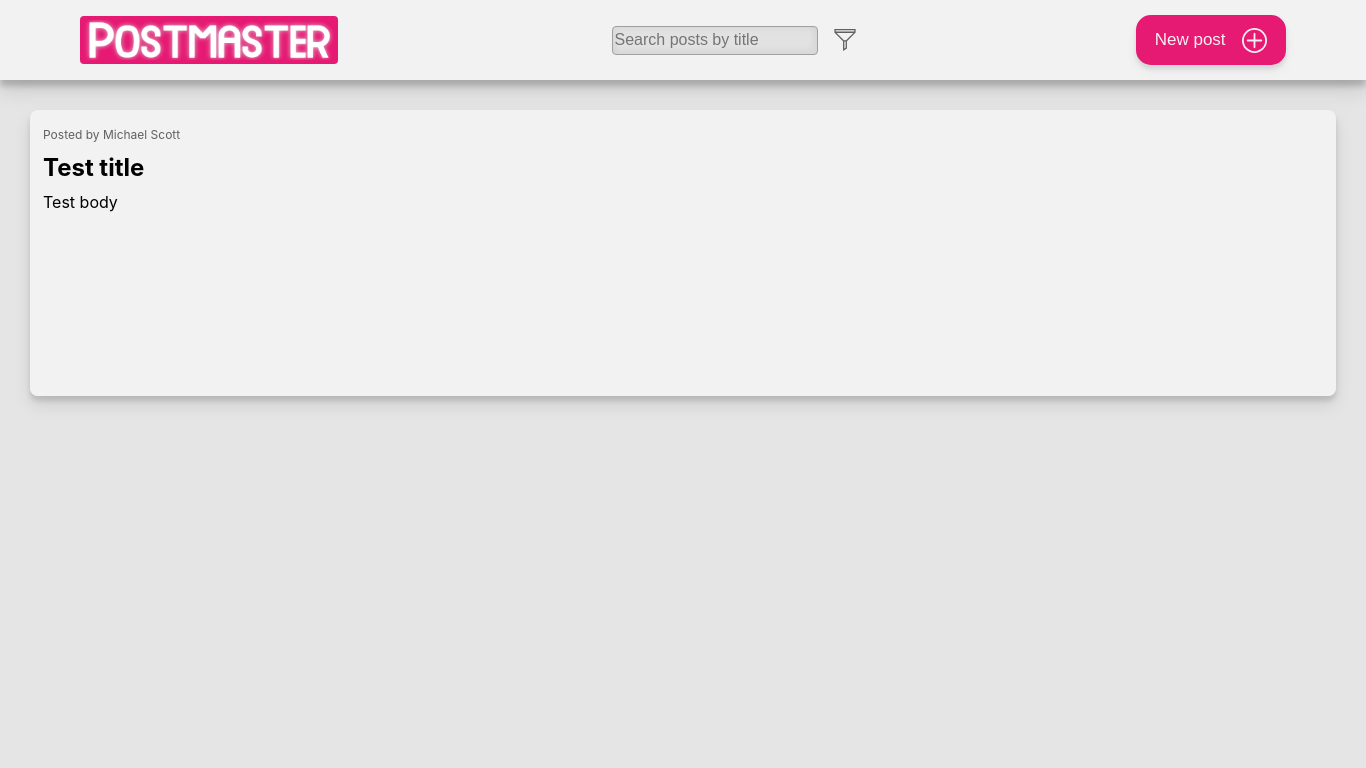
Post view page › Should allow user to add new cards
This screenshot has width=1366, height=768.
Expected: the heading "Test title" is shown, [43,153,144,182]
Click the button "New post": (1211, 40) [1136,15,1286,65]
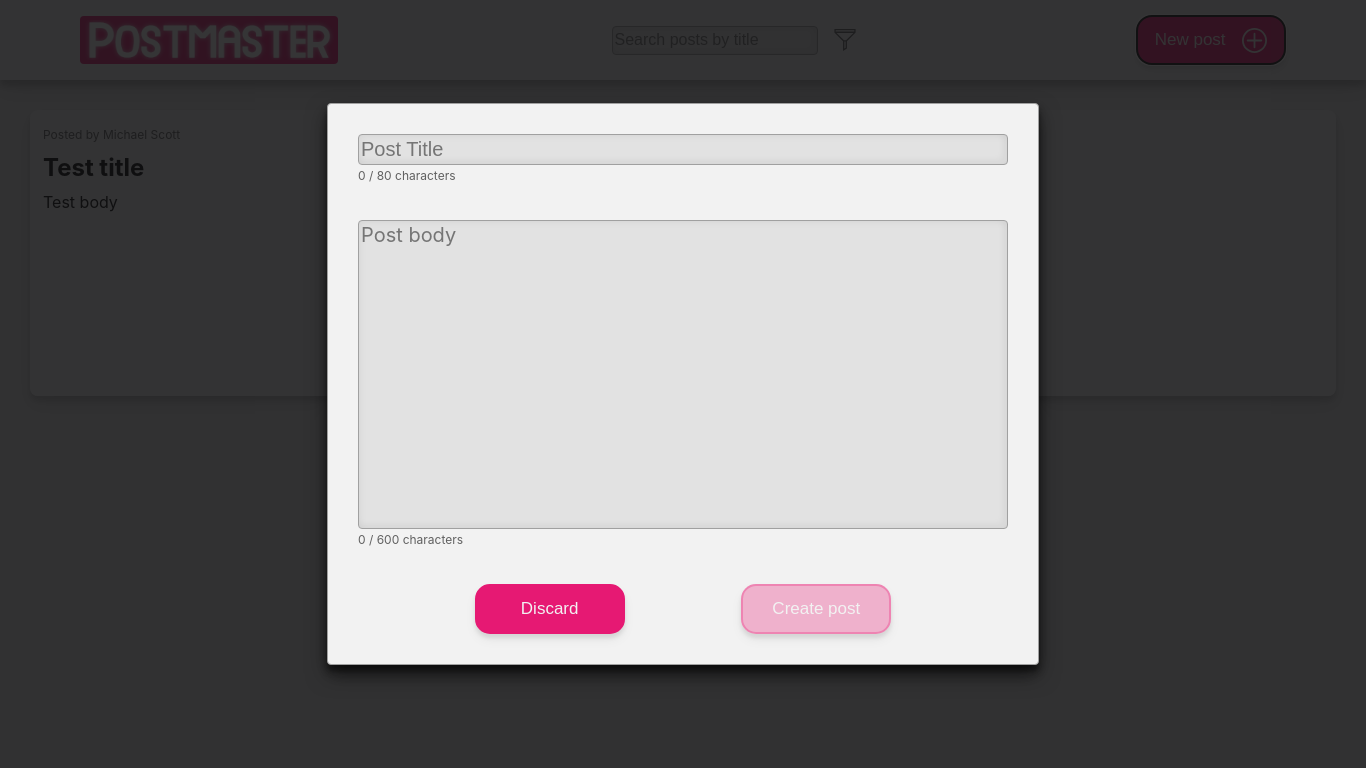
Expected: the field with placeholder "Post Title" is shown
Expected: the text box with placeholder "Post body" is shown, [358,220,1008,529]
In the field with placeholder "Post Title": (683, 150) [358,134,1008,165], type "Test title 2"
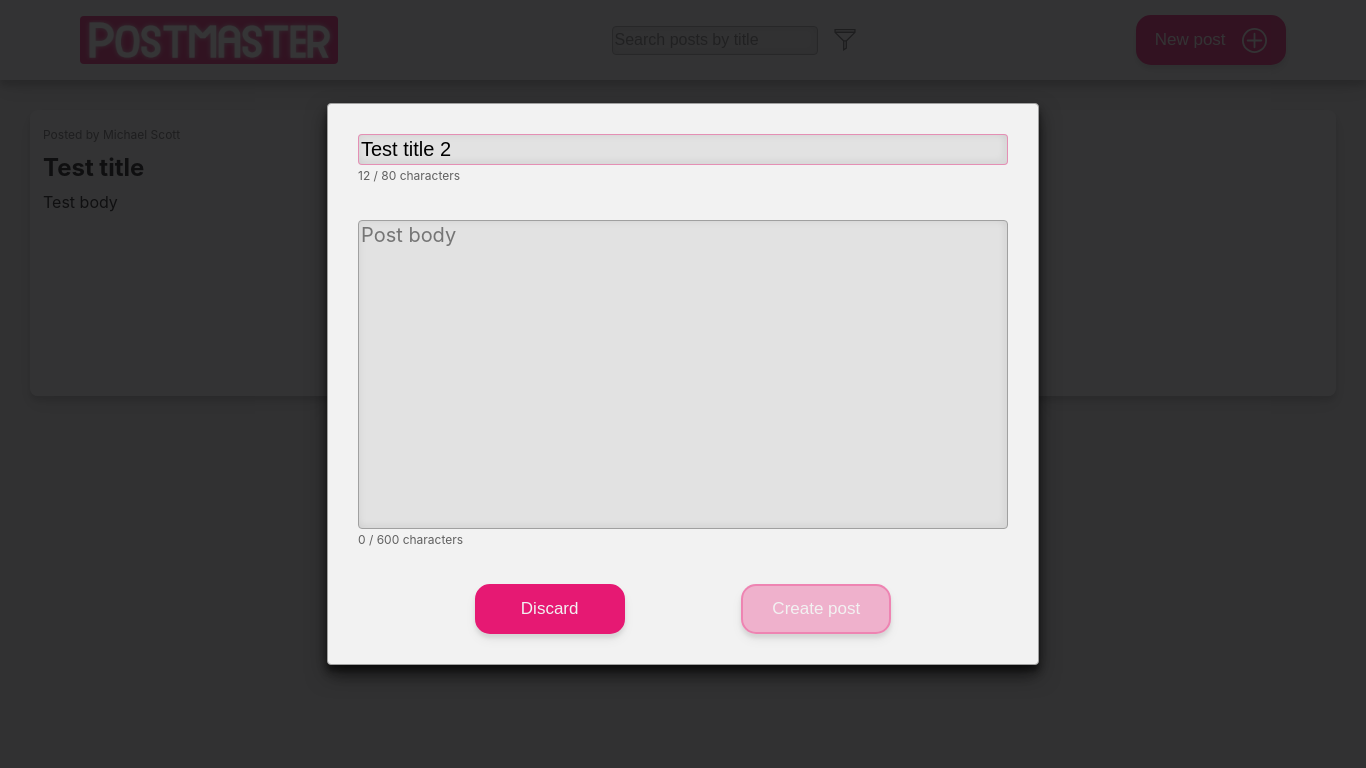
In the text box with placeholder "Post body": (683, 375) [358,220,1008,529], type "Test body 2"
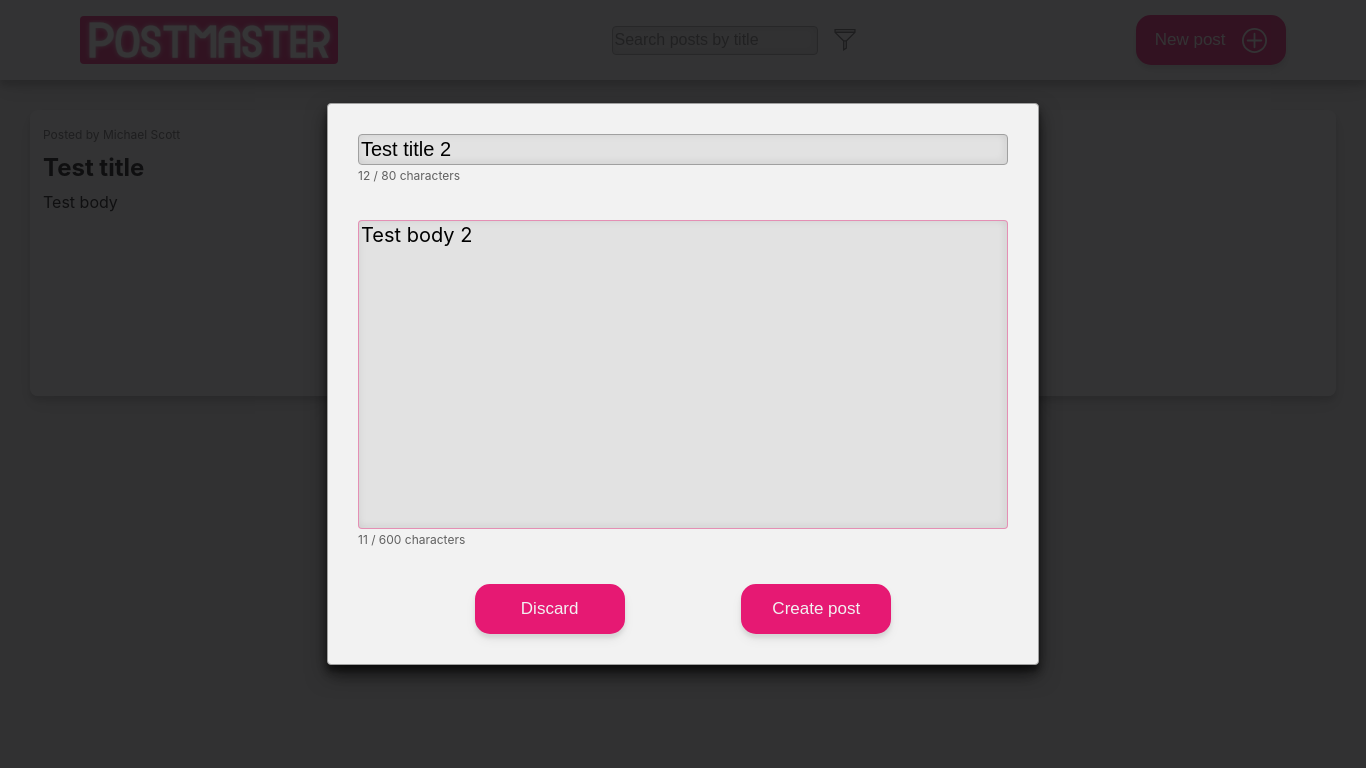
Click the button "Create post": (816, 609) [741,584,891,634]
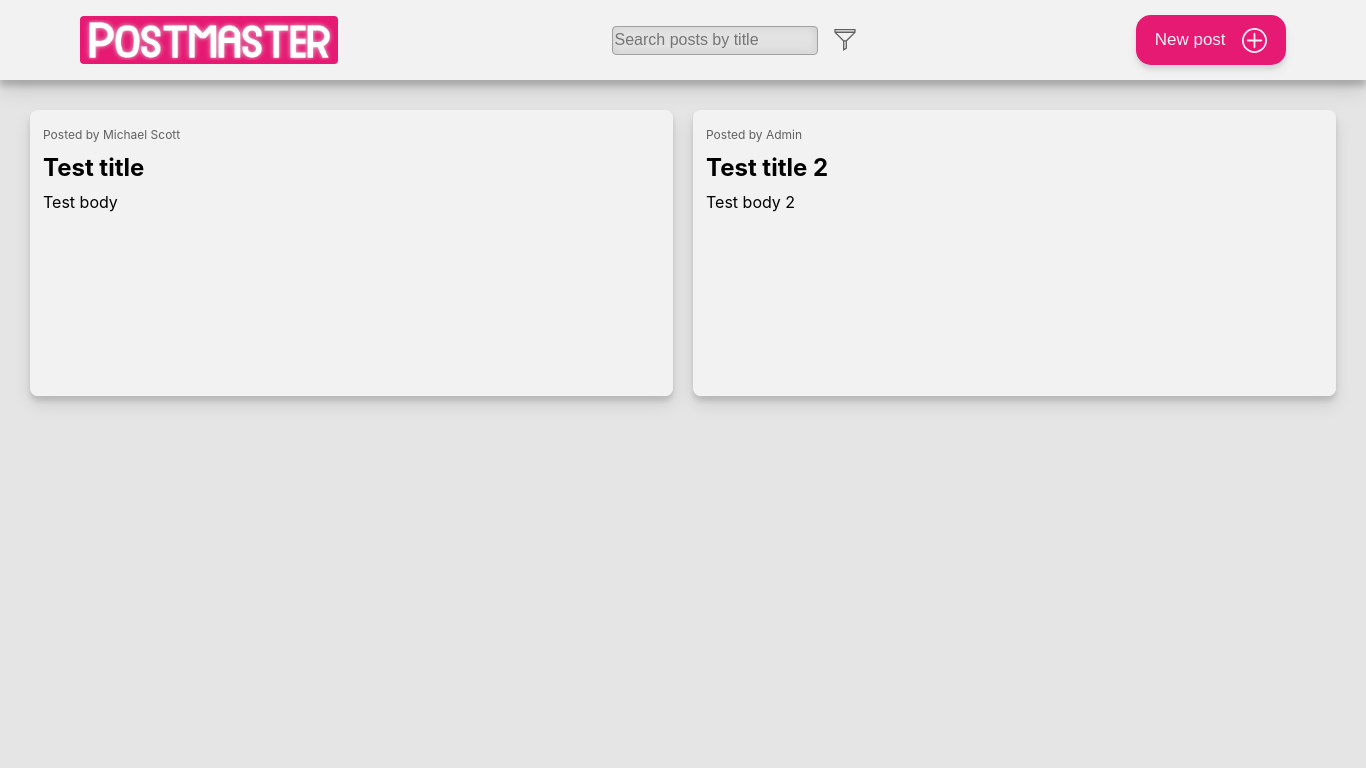
Expected: the heading "Test title 2" is shown, [706,153,828,182]
